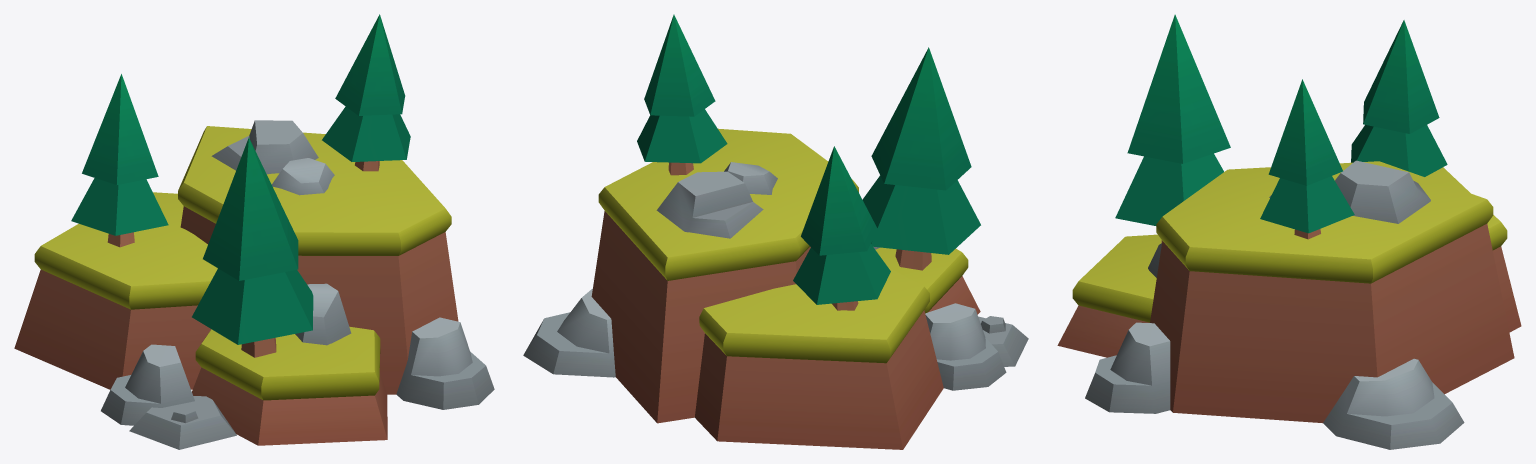
The model's file is kaykit-medieval-hexagon-pack-hills-a-trees.glb.
3 renders of one model, left to right at view 1: azimuth 30°, elevation 25°; view 2: azimuth 150°, elevation 25°; view 3: azimuth 270°, elevation 25°, orthographic. The views are drawn at different scales.
Visible parts, largest first — view 1: hills_A_trees; view 2: hills_A_trees; view 3: hills_A_trees.
Boxes of the visible parts, x1,y1,x2,y2 form: hills_A_trees: [14, 14, 494, 449]; hills_A_trees: [523, 14, 1028, 449]; hills_A_trees: [1057, 14, 1521, 449].
Size of the model in its own units: 1.76 by 1.33 by 1.74.
1 material, 1 textured.
